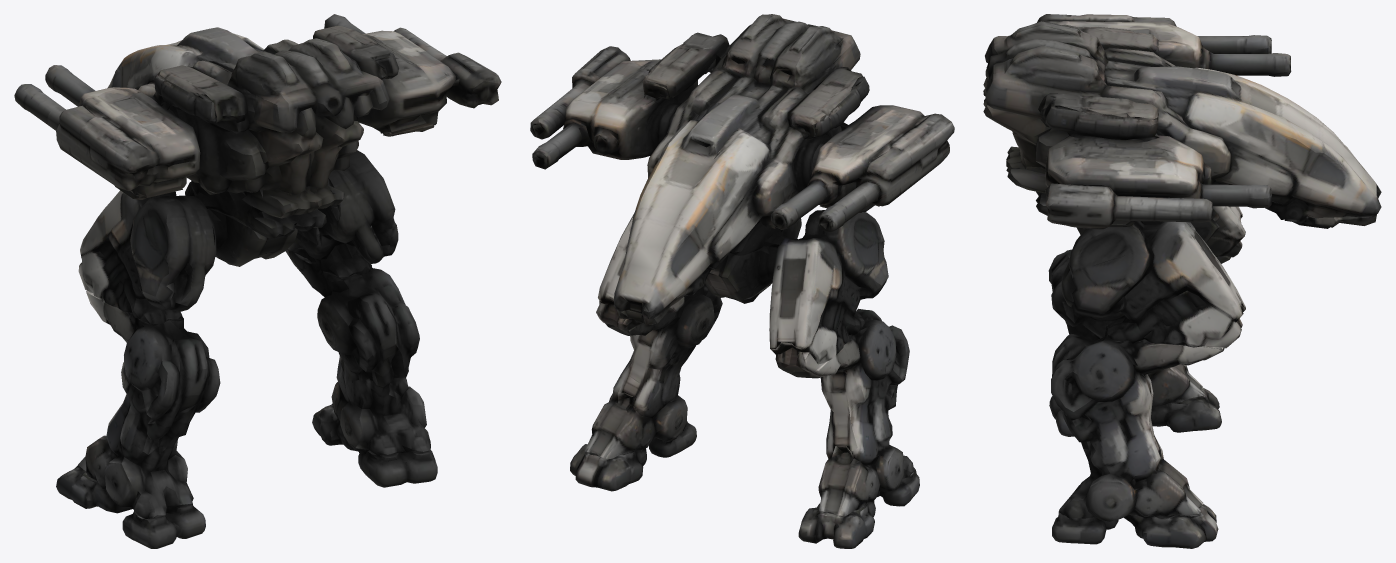
File: hero_l2.glb
3 views of the same model, side by side, from view 1: azimuth 30°, elevation 25°; view 2: azimuth 150°, elevation 25°; view 3: azimuth 270°, elevation 25° (orthographic). The views are drawn at different scales.
Parts seen in each view (by area): view 1: hull, shin_l, shin_r, weapon_l, thigh_l, weapon_r, thigh_r, foot_l, foot_r, pelvis; view 2: hull, thigh_l, shin_l, weapon_l, weapon_r, shin_r, pelvis, foot_r, foot_l, thigh_r; view 3: hull, shin_r, weapon_r, thigh_r, weapon_l, foot_r, shin_l, foot_l, thigh_l, pelvis.
Part boxes in pixels (box(x1,y1,x2,y2)): hull: box(107, 25, 434, 238); shin_l: box(78, 290, 220, 518); shin_r: box(285, 249, 430, 455); weapon_l: box(14, 65, 215, 196); thigh_l: box(78, 178, 224, 324); weapon_r: box(324, 14, 501, 133); thigh_r: box(287, 150, 398, 277); foot_l: box(56, 465, 205, 548); foot_r: box(312, 403, 437, 487); pelvis: box(185, 182, 339, 266); hull: box(613, 14, 879, 318); thigh_l: box(723, 210, 888, 372); shin_l: box(784, 308, 914, 516); weapon_l: box(771, 76, 954, 232); weapon_r: box(530, 35, 707, 169); shin_r: box(584, 283, 722, 459); pelvis: box(617, 218, 801, 324); foot_r: box(570, 420, 696, 491); foot_l: box(798, 467, 919, 548); thigh_r: box(596, 213, 724, 331); hull: box(983, 21, 1381, 230); shin_r: box(1051, 326, 1224, 521); weapon_r: box(1040, 100, 1271, 229); thigh_r: box(1061, 221, 1245, 348); weapon_l: box(1037, 14, 1291, 76); foot_r: box(1052, 504, 1218, 548); shin_l: box(1048, 249, 1230, 407); foot_l: box(1049, 387, 1221, 436); thigh_l: box(1206, 206, 1245, 257); pelvis: box(1076, 208, 1376, 251).
Bounding box in the file's own units: 2.81 × 3.31 × 2.69.
Materials: 1 (1 with a texture image).
